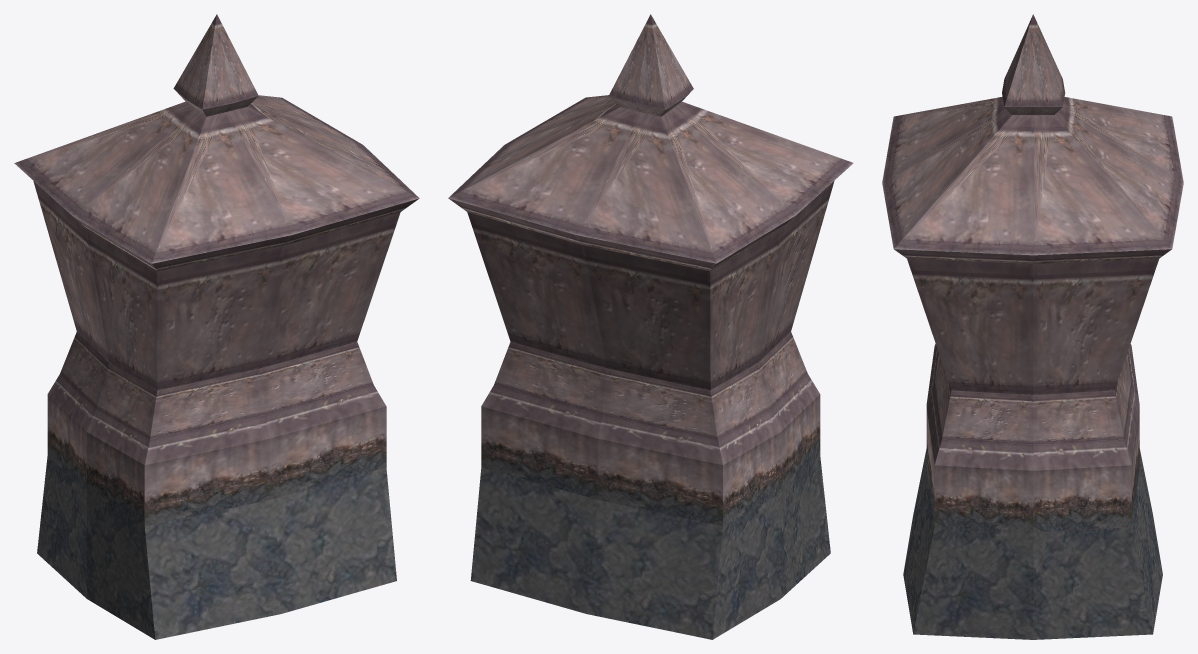
Rendered from C4SMVSTAGTWR_H.obj.
3 views of the same model, side by side, from view 1: azimuth 30°, elevation 25°; view 2: azimuth 150°, elevation 25°; view 3: azimuth 270°, elevation 25° (orthographic).
Visible parts, largest first — view 1: Node 0; view 2: Node 0; view 3: Node 0.
Part boxes in pixels (bbox=[...]): Node 0: bbox=[14, 14, 419, 639]; Node 0: bbox=[448, 14, 853, 639]; Node 0: bbox=[882, 14, 1183, 639].
Bounding box in the file's own units: 11.29 × 20.51 × 10.
Materials: 2 (2 with a texture image).
